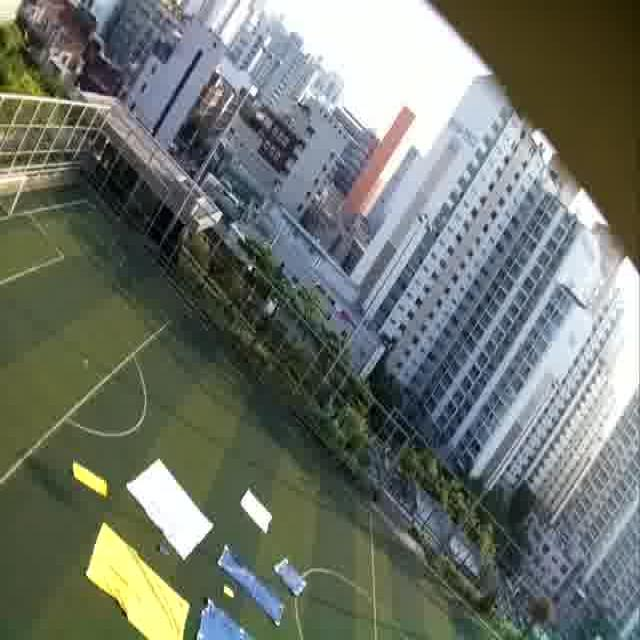danger: (196, 604, 258, 640), (207, 544, 252, 577), (278, 559, 308, 598)
safety: (138, 467, 216, 542), (240, 485, 276, 535)
warning: (87, 544, 171, 632), (70, 467, 108, 500)
